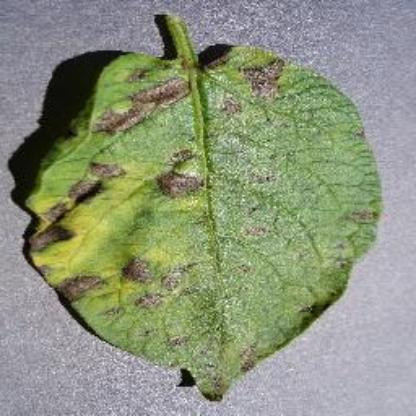Early-Blight: (21, 10, 384, 402)
